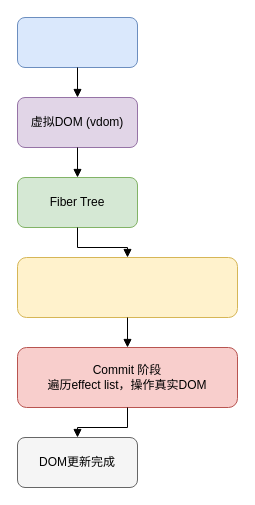
Some shapes in this 255 by 505 pixel diagram are drawn without their labels. Each missing label, with the centre of its shape:
JSX: point 77,42
协调（Reconciliation） diff新旧vdom，生成effect list: point 127,287
